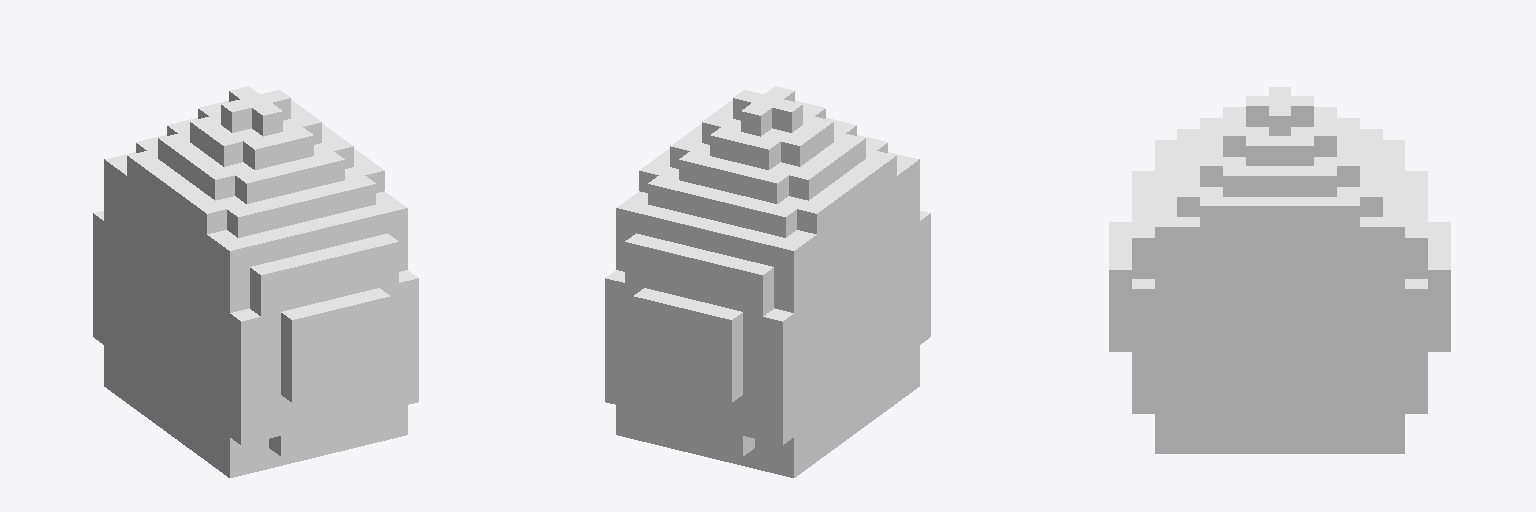
The model's file is juice.obj.
3 renders of one model, left to right at view 1: azimuth 30°, elevation 25°; view 2: azimuth 150°, elevation 25°; view 3: azimuth 270°, elevation 25°, orthographic.
Visible parts, largest first — view 1: object 1; view 2: object 1; view 3: object 1.
Boxes of the visible parts, x1=… form: object 1: x1=93, y1=86, x2=418, y2=477; object 1: x1=605, y1=86, x2=930, y2=477; object 1: x1=1109, y1=87, x2=1450, y2=453.
Bounding box in the file's own units: 0.9 × 1.5 × 1.5.